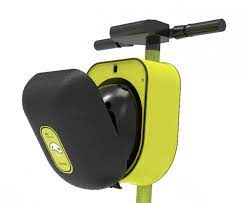kick_handler: (92, 18, 226, 51)
